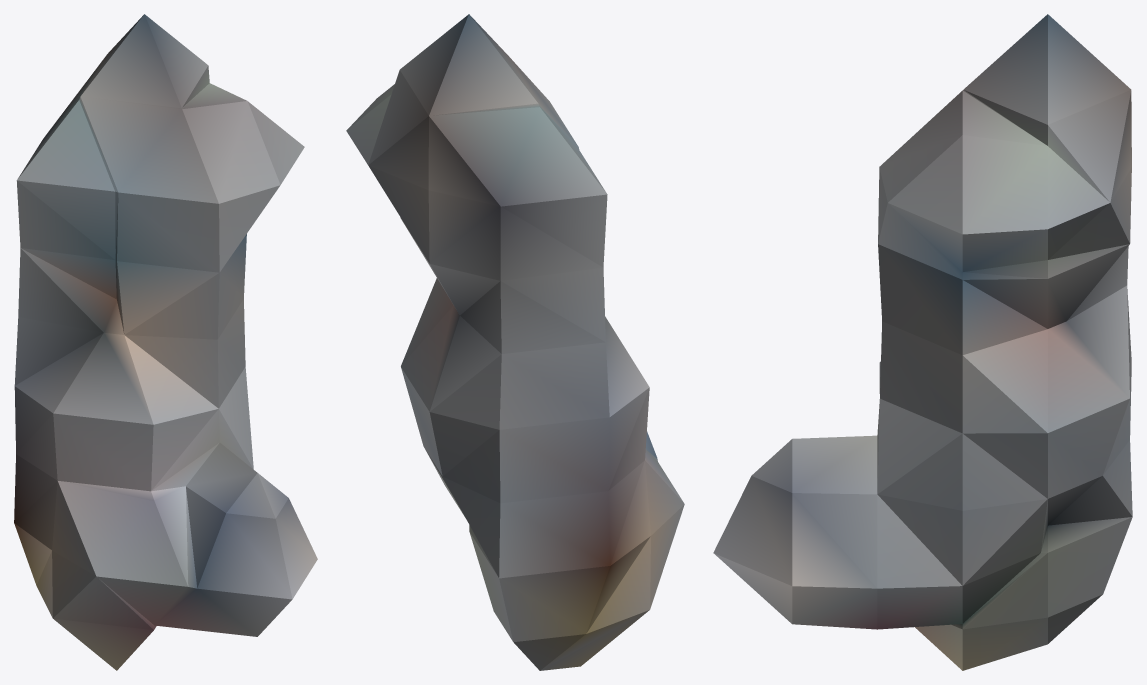
The model's file is 000002_motorcycle_vehicle_collector's item_12288_16.glb.
3 renders of one model, left to right at view 1: azimuth 30°, elevation 25°; view 2: azimuth 150°, elevation 25°; view 3: azimuth 270°, elevation 25°, orthographic. The views are drawn at different scales.
Visible parts, largest first — view 1: world; view 2: world; view 3: world.
Boxes of the visible parts, x1=… form: world: x1=14, y1=14, x2=317, y2=670; world: x1=346, y1=14, x2=684, y2=670; world: x1=713, y1=14, x2=1132, y2=670.
Bounding box in the file's own units: 0.4494 × 1.04 × 0.571.
